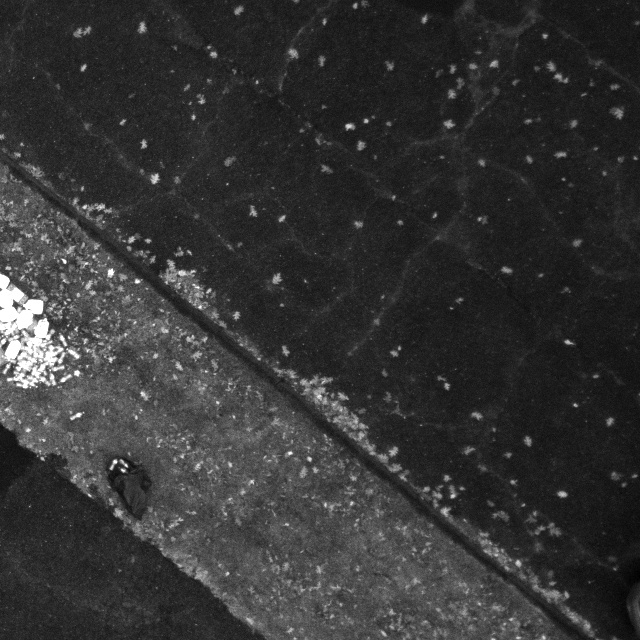bottle: (65, 345, 81, 360), (68, 408, 85, 422), (105, 455, 118, 473), (57, 371, 73, 384), (42, 348, 58, 361), (58, 331, 69, 348), (47, 363, 65, 373), (47, 367, 57, 385), (117, 457, 129, 470), (117, 465, 131, 476), (39, 338, 54, 347), (39, 374, 51, 385), (57, 349, 66, 363)
